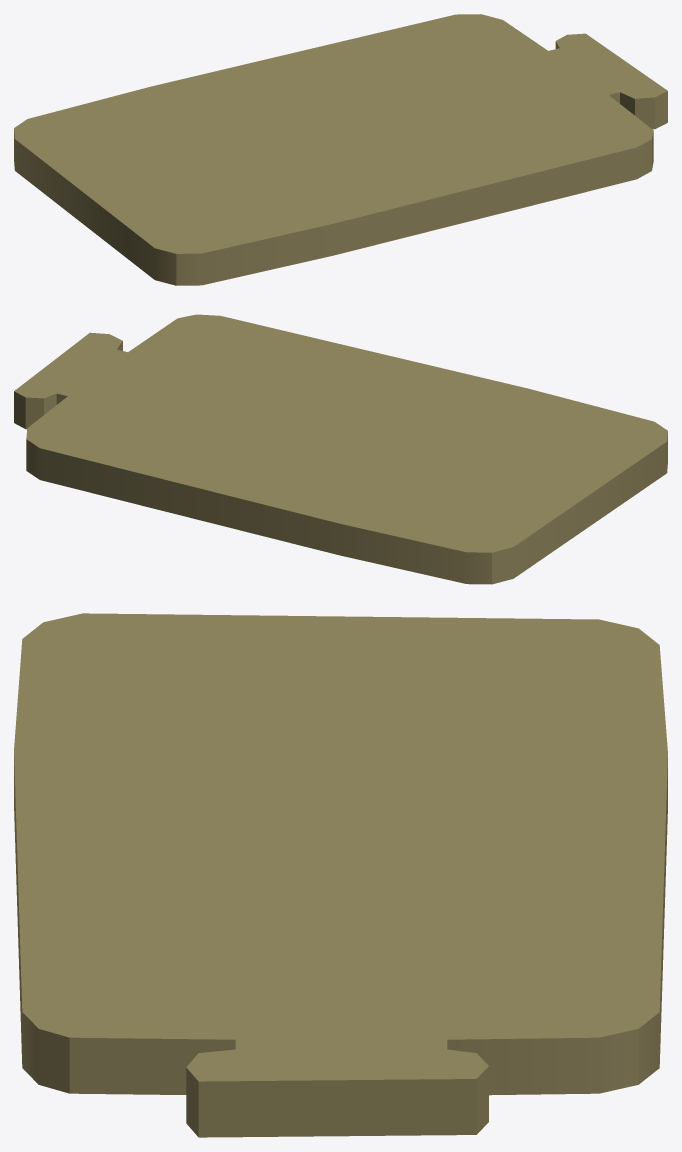
The model's file is Furniture_CuttingBoard_00 dummy.FBX.
3 views of the same model, one above another, from view 1: azimuth 30°, elevation 25°; view 2: azimuth 150°, elevation 25°; view 3: azimuth 270°, elevation 25° (orthographic). The views are drawn at different scales.
Visible parts, largest first — view 1: Duumy_CuttingBoard; view 2: Duumy_CuttingBoard; view 3: Duumy_CuttingBoard.
Boxes of the visible parts, left/top/right/bottom form: Duumy_CuttingBoard: left=14, top=14, right=667, bottom=285; Duumy_CuttingBoard: left=14, top=314, right=667, bottom=584; Duumy_CuttingBoard: left=14, top=613, right=667, bottom=1137.
Size of the model in its own units: 36.07 by 2.01 by 21.29.
